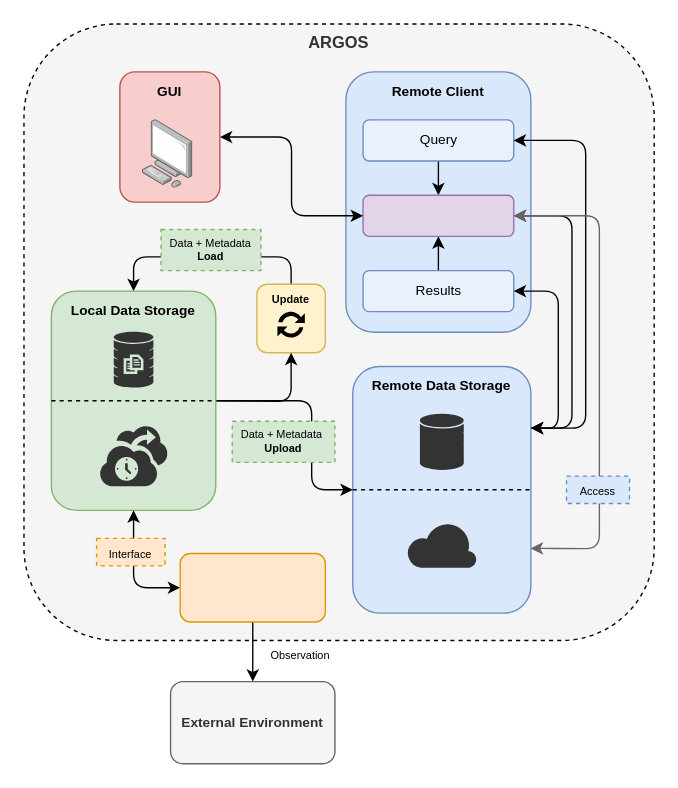
Some shapes in this 678 by 788 pixel diagram are drawn without their labels. The centre of each missing label's shape, as x and y in pixels:
"Display" belongs at pixel 438 215.
"Vision Module" belongs at pixel 252 587.
